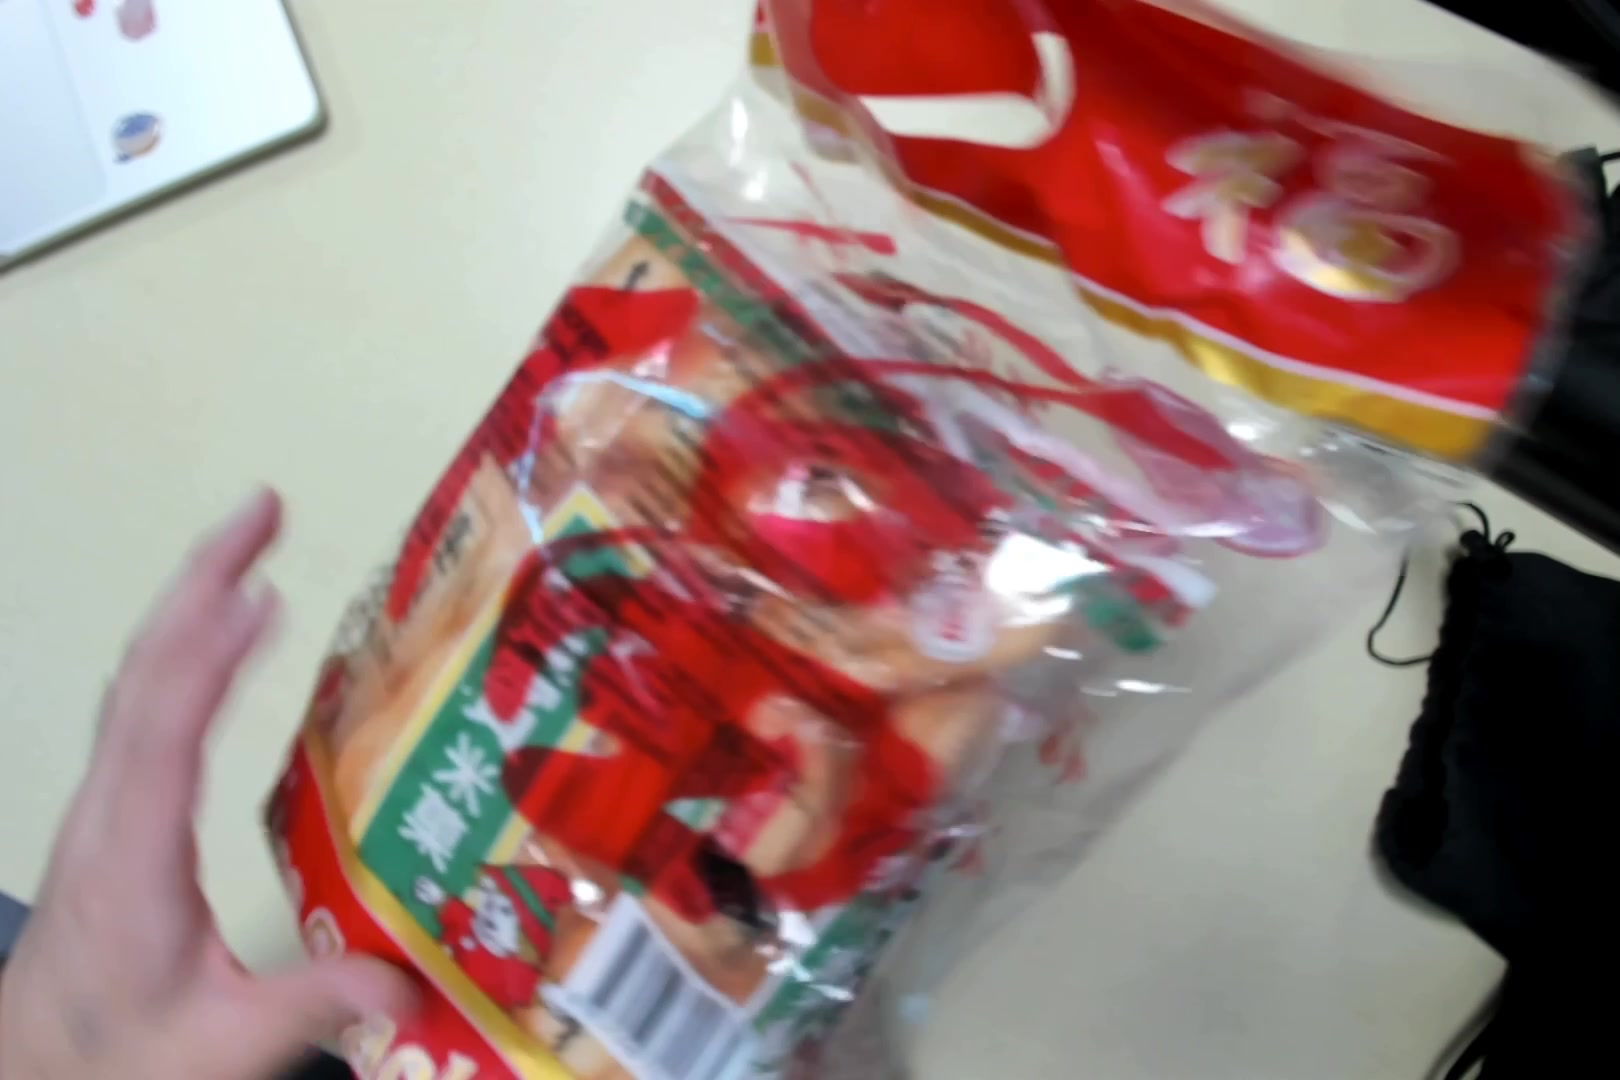PotatoChipsKeropok_300-399g_NonHalal_NonHealthy: (284, 6, 1571, 1080)
